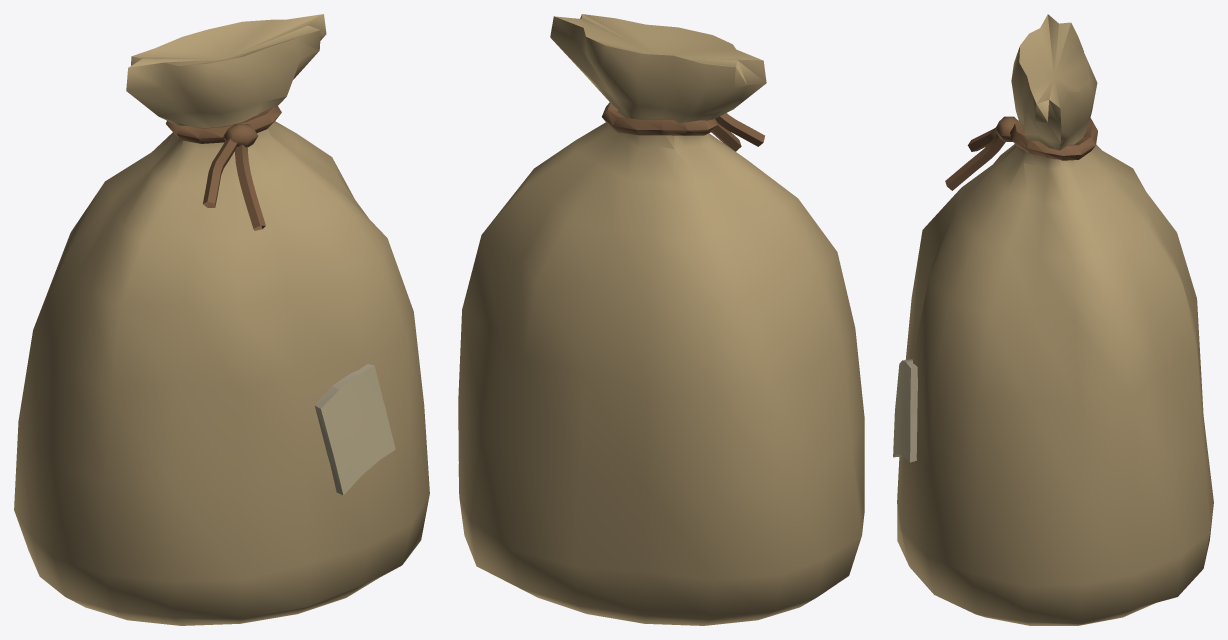
The model's file is SM_LPD_Crate_SackUpright_01.fbx.
The picture shows the model from 3 angles, left to right: view 1: azimuth 30°, elevation 25°; view 2: azimuth 150°, elevation 25°; view 3: azimuth 270°, elevation 25°; orthographic projection. The views are drawn at different scales.
Visible parts, largest first — view 1: SM_LPD_Crate_SackUpright_01; view 2: SM_LPD_Crate_SackUpright_01; view 3: SM_LPD_Crate_SackUpright_01.
Boxes of the visible parts, x1,y1,x2,y2 form: SM_LPD_Crate_SackUpright_01: (14,14,429,625); SM_LPD_Crate_SackUpright_01: (458,14,864,625); SM_LPD_Crate_SackUpright_01: (893,14,1213,625).
Bounding box in the file's own units: 0.4599 × 0.6159 × 0.3617.
